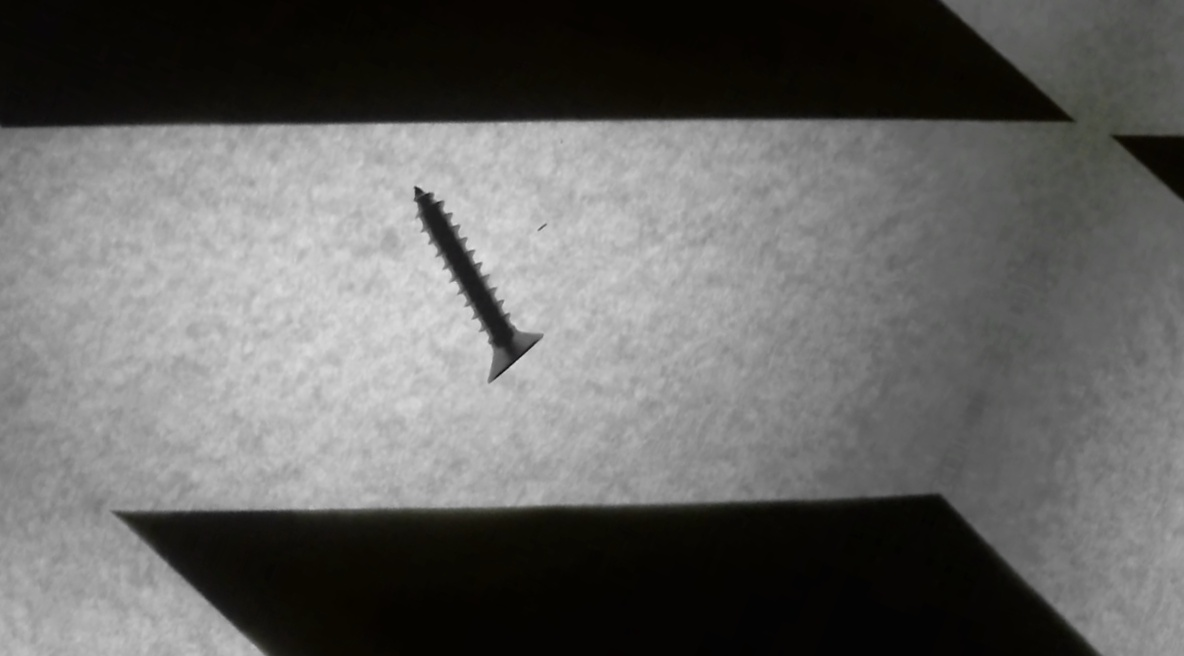S001: (334, 173, 587, 412)
